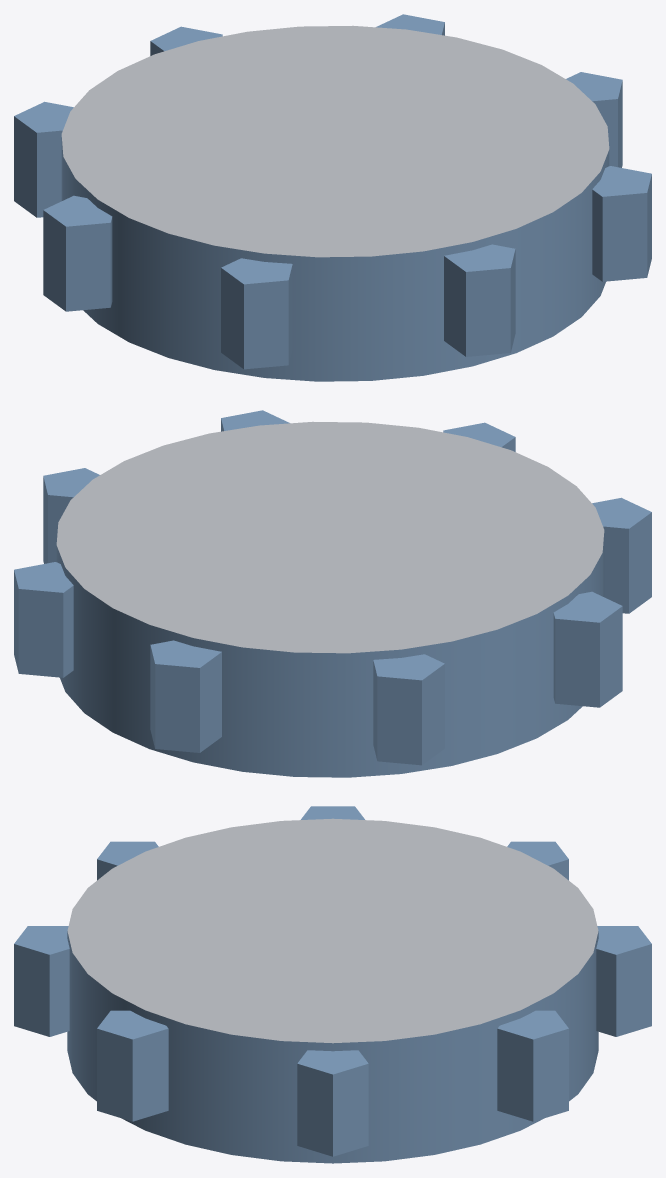
3 views of the same model, one above another, from view 1: azimuth 30°, elevation 25°; view 2: azimuth 150°, elevation 25°; view 3: azimuth 270°, elevation 25° (orthographic). The views are drawn at different scales.
Visible parts, largest first — view 1: ratchet_8-30; view 2: ratchet_8-30; view 3: ratchet_8-30.
Part boxes in pixels (left/top/right/bottom): ratchet_8-30: left=14, top=14, right=651, bottom=381; ratchet_8-30: left=14, top=410, right=651, bottom=777; ratchet_8-30: left=14, top=806, right=651, bottom=1163.
Bounding box in the file's own units: 14.34 × 3 × 14.42.
